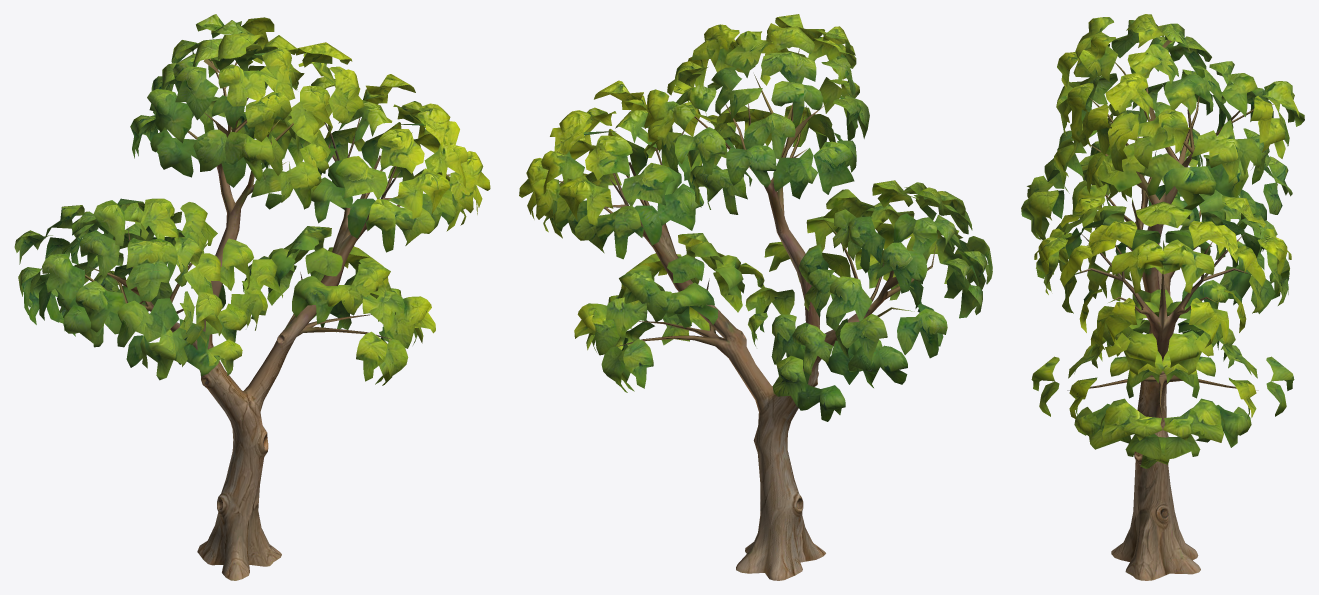
Rendered from Arbolito_1.glb.
The picture shows the model from 3 angles, left to right: view 1: azimuth 30°, elevation 25°; view 2: azimuth 150°, elevation 25°; view 3: azimuth 270°, elevation 25°; orthographic projection. The views are drawn at different scales.
Visible parts, largest first — view 1: tripo_node_3b9b72fe-39a8-4f49-9d3f-18c36d413f75; view 2: tripo_node_3b9b72fe-39a8-4f49-9d3f-18c36d413f75; view 3: tripo_node_3b9b72fe-39a8-4f49-9d3f-18c36d413f75.
Part boxes in pixels (box(x1,y1,x2,y2)): tripo_node_3b9b72fe-39a8-4f49-9d3f-18c36d413f75: box(14, 14, 490, 580); tripo_node_3b9b72fe-39a8-4f49-9d3f-18c36d413f75: box(519, 14, 992, 580); tripo_node_3b9b72fe-39a8-4f49-9d3f-18c36d413f75: box(1021, 14, 1304, 580).
Bounding box in the file's own units: 0.8374 × 0.9995 × 0.4731.
Materials: 1 (1 with a texture image).
